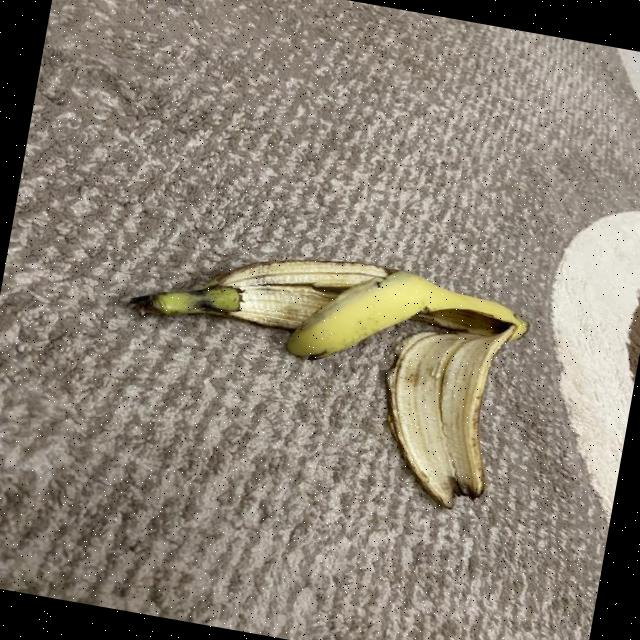banana-peel: (102, 219, 534, 516), (282, 251, 534, 396), (125, 222, 388, 356), (363, 300, 524, 516)
